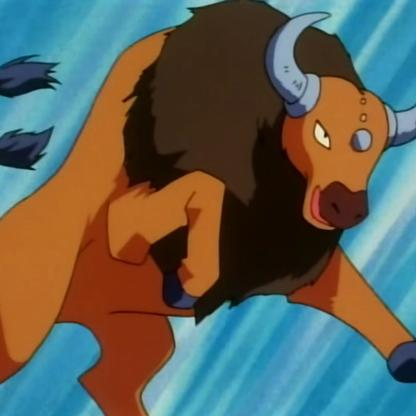Tauros: (1, 1, 416, 413)
